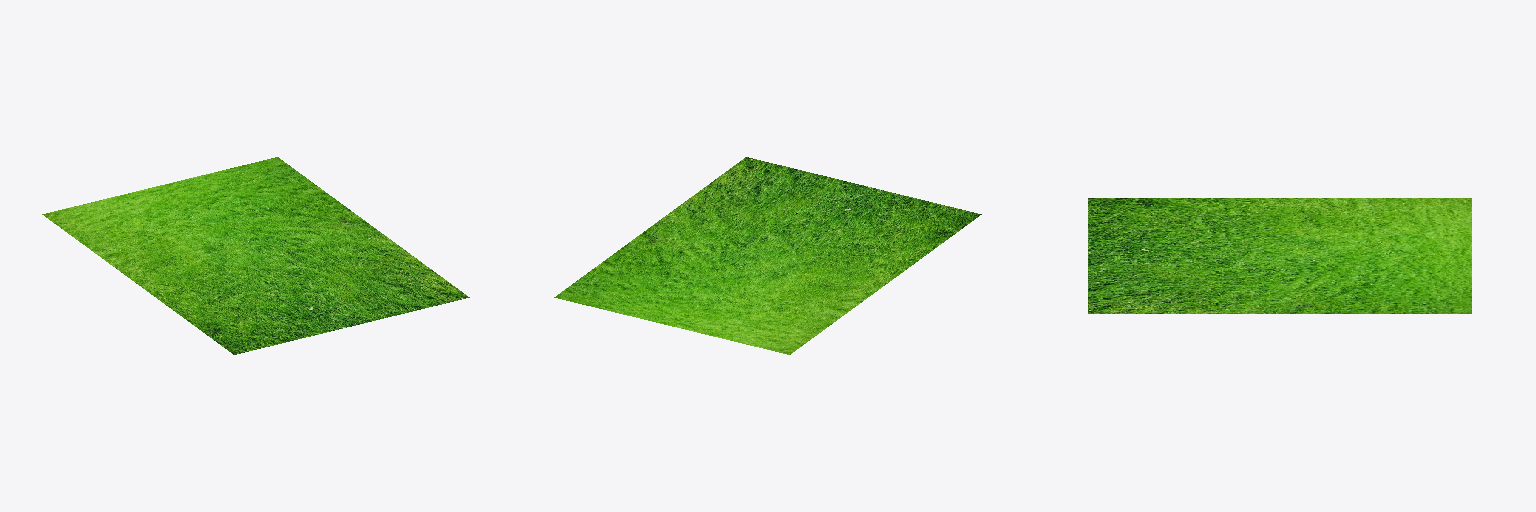
The picture shows the model from 3 angles: view 1: azimuth 30°, elevation 25°; view 2: azimuth 150°, elevation 25°; view 3: azimuth 270°, elevation 25°; orthographic projection.
Parts seen in each view (by area): view 1: Plane001; view 2: Plane001; view 3: Plane001.
Part boxes in pixels (x1,y1,x2,y2): Plane001: (42, 157, 469, 354); Plane001: (554, 157, 981, 354); Plane001: (1088, 198, 1471, 313).
Size of the model in its own units: 697 by 0 by 984.
1 materials, 1 textured.